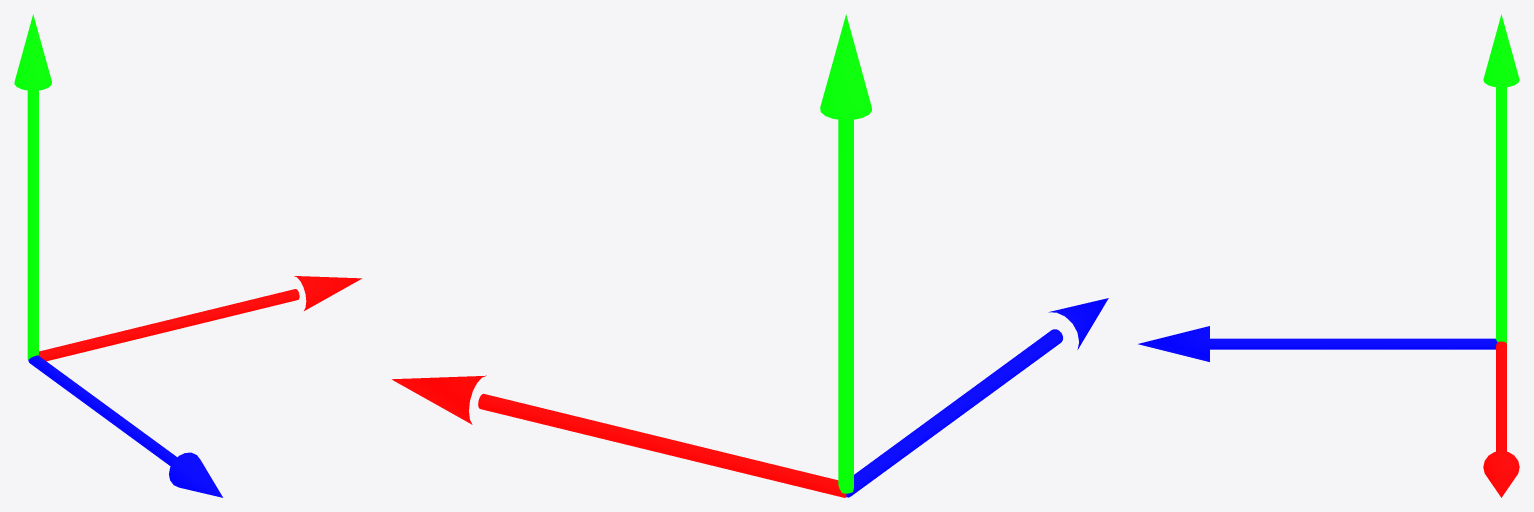
File: axes.gltf
3 views of the same model, side by side, from view 1: azimuth 30°, elevation 25°; view 2: azimuth 150°, elevation 25°; view 3: azimuth 270°, elevation 25° (orthographic). The views are drawn at different scales.
Visible parts, largest first — view 1: axis_Y, axis_X, axis_Z; view 2: axis_Y, axis_X, axis_Z; view 3: axis_Z, axis_Y, axis_X.
Part boxes in pixels (x1,y1,x2,y2): axis_Y: (14, 14, 51, 359); axis_X: (38, 276, 361, 361); axis_Z: (28, 355, 222, 497); axis_Y: (820, 14, 871, 493); axis_X: (392, 375, 846, 497); axis_Z: (846, 298, 1108, 497); axis_Z: (1138, 326, 1497, 361); axis_Y: (1483, 14, 1519, 343); axis_X: (1483, 341, 1519, 497).
Size of the model in its own units: 1.05 by 1.05 by 1.05.
